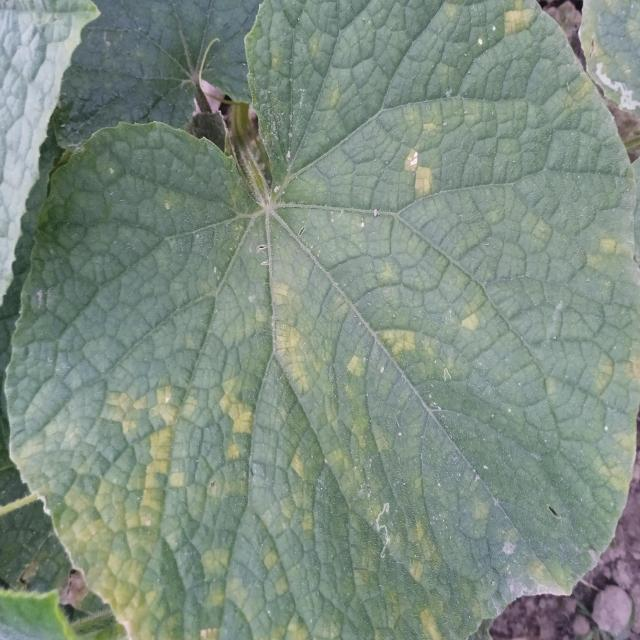cucumber_downy: (24, 6, 637, 640)
